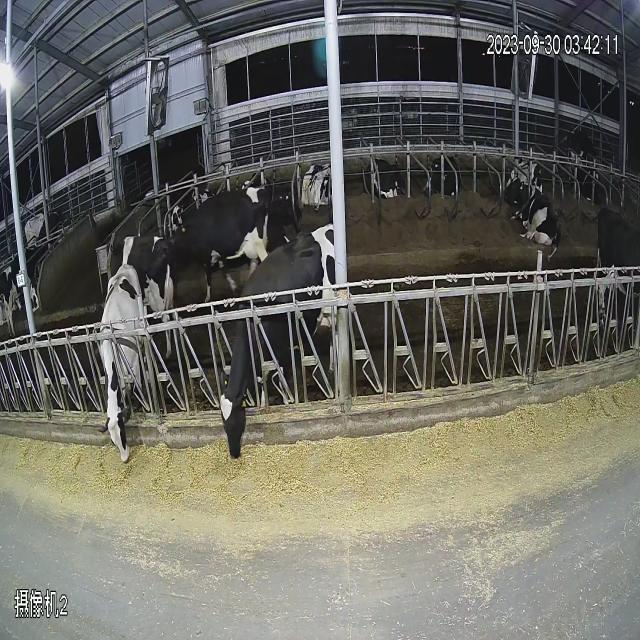feeding: (219, 226, 383, 466), (98, 260, 154, 496)
lying down: (501, 182, 564, 260), (300, 148, 348, 220), (423, 135, 463, 219), (363, 138, 398, 207), (576, 156, 608, 210)
standing: (82, 209, 180, 372), (1, 148, 76, 350), (591, 189, 640, 435), (168, 176, 274, 283)
